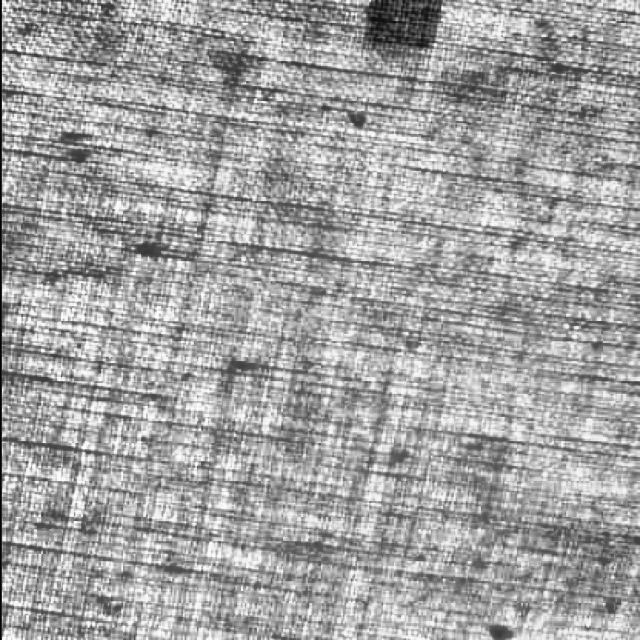oil_spot: (356, 0, 454, 71)
